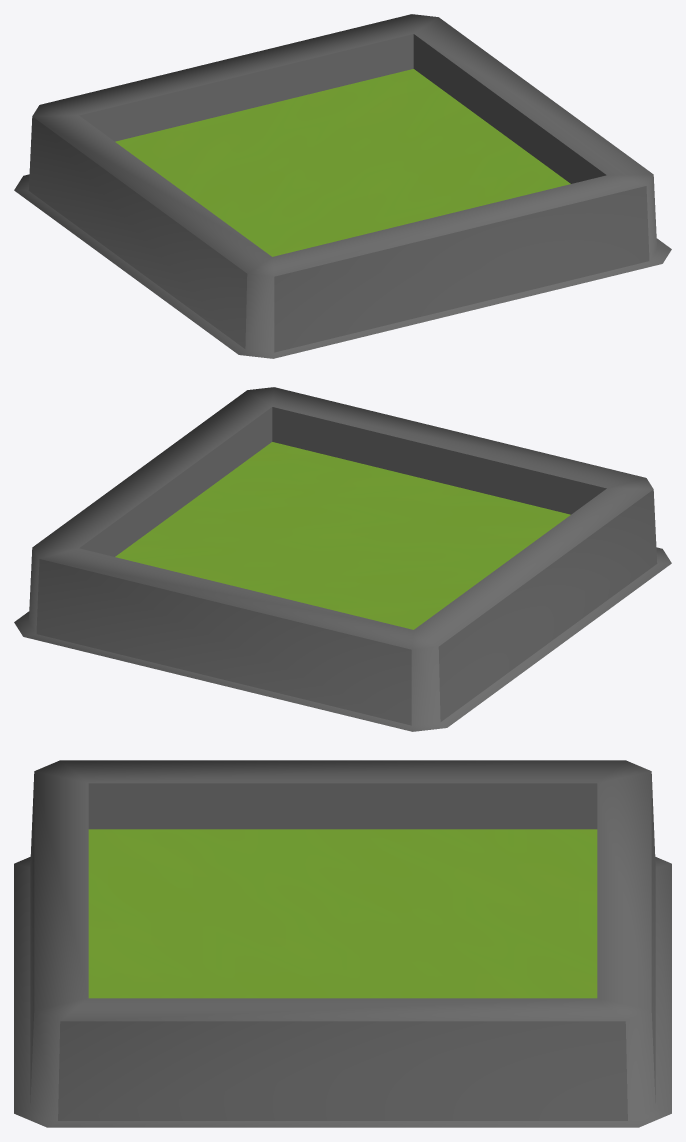
The model's file is GRass_for_tree.fbx.
The picture shows the model from 3 angles, top to bottom: view 1: azimuth 30°, elevation 25°; view 2: azimuth 150°, elevation 25°; view 3: azimuth 270°, elevation 25°; orthographic projection. The views are drawn at different scales.
Parts seen in each view (by area): view 1: Object166; view 2: Object166; view 3: Object166.
Boxes of the visible parts, <box> form: Object166: <box>14,14,671,358</box>; Object166: <box>14,387,671,731</box>; Object166: <box>14,760,671,1127</box>.
Size of the model in its own units: 5098 by 837 by 5098.
